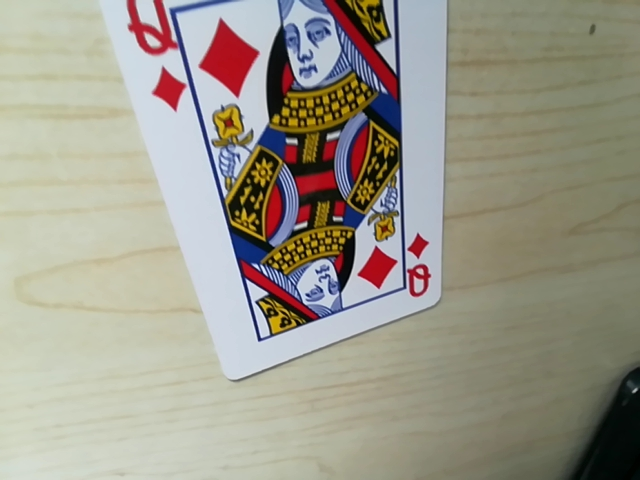fk q: (120, 0, 204, 110), (399, 260, 439, 306)
